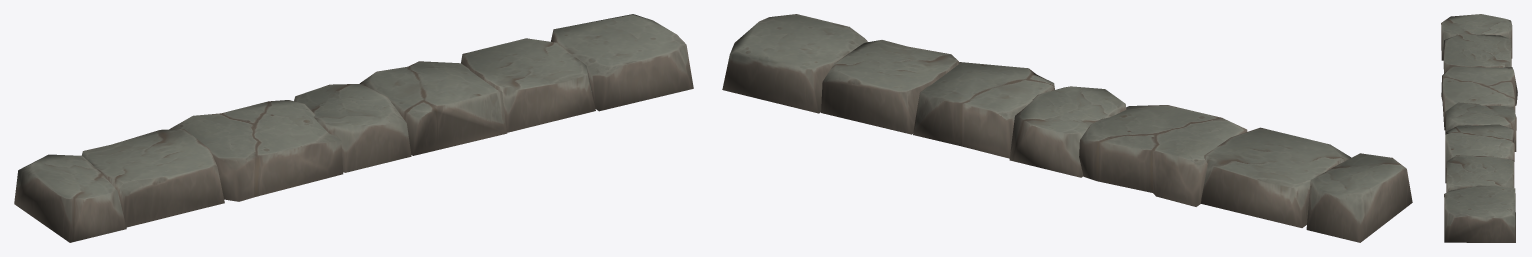
Rendered from SM_FW01_Ruins_Int_Floor_Trim_4m_01.fbx.
The picture shows the model from 3 angles, left to right: view 1: azimuth 30°, elevation 25°; view 2: azimuth 150°, elevation 25°; view 3: azimuth 270°, elevation 25°; orthographic projection. The views are drawn at different scales.
Parts seen in each view (by area): view 1: SM_FW01_Ruins_Int_Floor_Trim_4m_01_LOD0; view 2: SM_FW01_Ruins_Int_Floor_Trim_4m_01_LOD0; view 3: SM_FW01_Ruins_Int_Floor_Trim_4m_01_LOD0.
Boxes of the visible parts, x1,y1,x2,y2 form: SM_FW01_Ruins_Int_Floor_Trim_4m_01_LOD0: (14,14,693,242); SM_FW01_Ruins_Int_Floor_Trim_4m_01_LOD0: (722,14,1412,242); SM_FW01_Ruins_Int_Floor_Trim_4m_01_LOD0: (1441,14,1517,242).
Size of what is drawn, in the model's own units: 4.01 by 0.2781 by 0.646.
